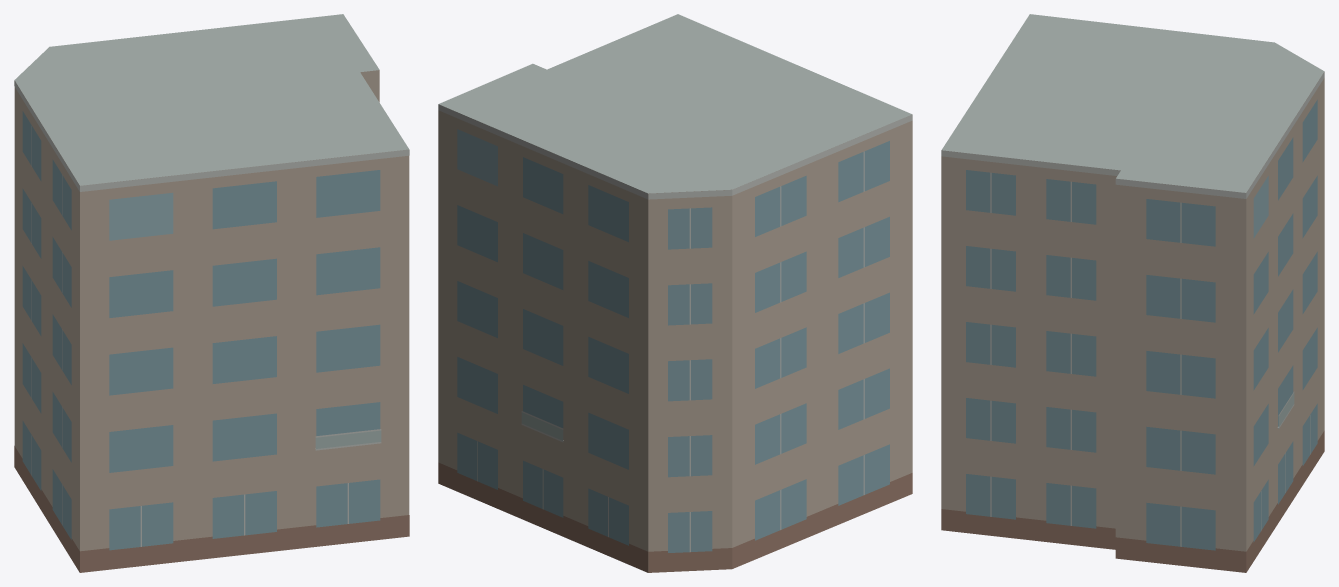
Rendered from survey-upis-32934961.glb.
3 views of the same model, side by side, from view 1: azimuth 30°, elevation 25°; view 2: azimuth 150°, elevation 25°; view 3: azimuth 270°, elevation 25° (orthographic). The views are drawn at different scales.
Parts seen in each view (by area): view 1: survey-upis-32934961.tmp; view 2: survey-upis-32934961.tmp; view 3: survey-upis-32934961.tmp.
Part boxes in pixels (bbox=[...]): survey-upis-32934961.tmp: bbox=[14, 14, 409, 572]; survey-upis-32934961.tmp: bbox=[438, 14, 912, 572]; survey-upis-32934961.tmp: bbox=[941, 14, 1324, 572].
Size of the model in its own units: 15.42 by 15.25 by 13.95.
